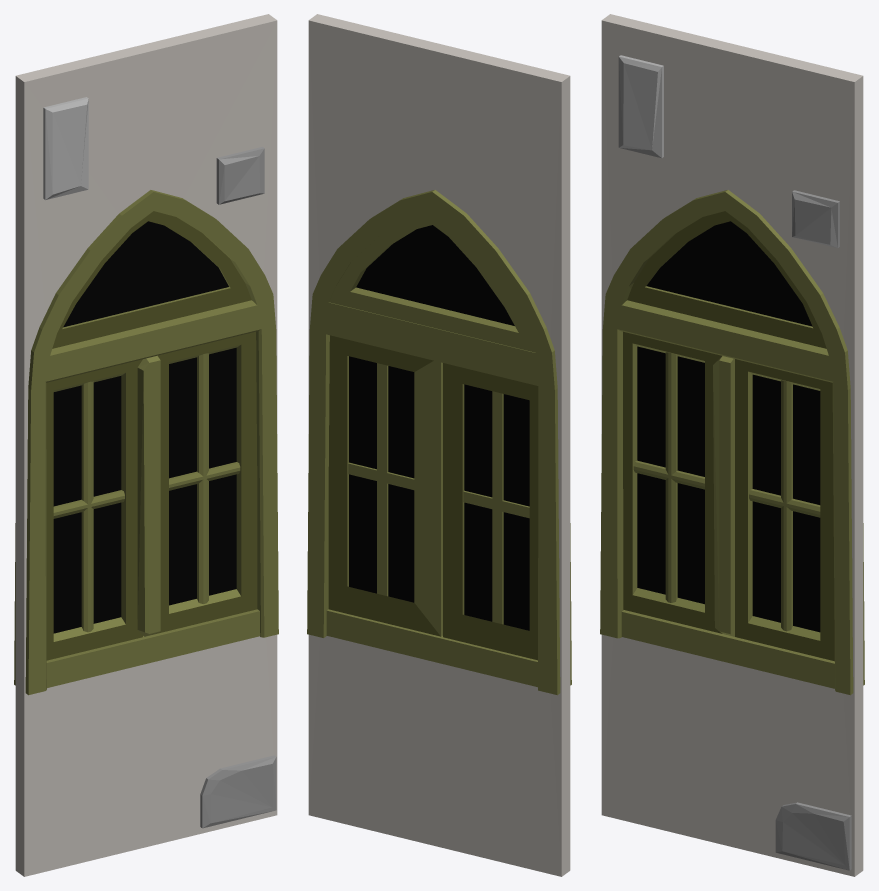
The model's file is _WINDOW_01_01.fbx.
The picture shows the model from 3 angles, left to right: view 1: azimuth 30°, elevation 25°; view 2: azimuth 150°, elevation 25°; view 3: azimuth 330°, elevation 25°; orthographic projection.
Parts seen in each view (by area): view 1: WINDOW_01_01; view 2: WINDOW_01_01; view 3: WINDOW_01_01.
Part boxes in pixels (x1=…): WINDOW_01_01: x1=14, y1=14, x2=278, y2=876; WINDOW_01_01: x1=307, y1=14, x2=571, y2=876; WINDOW_01_01: x1=600, y1=14, x2=864, y2=876.
Size of the model in its own units: 100 by 300 by 10.63.
